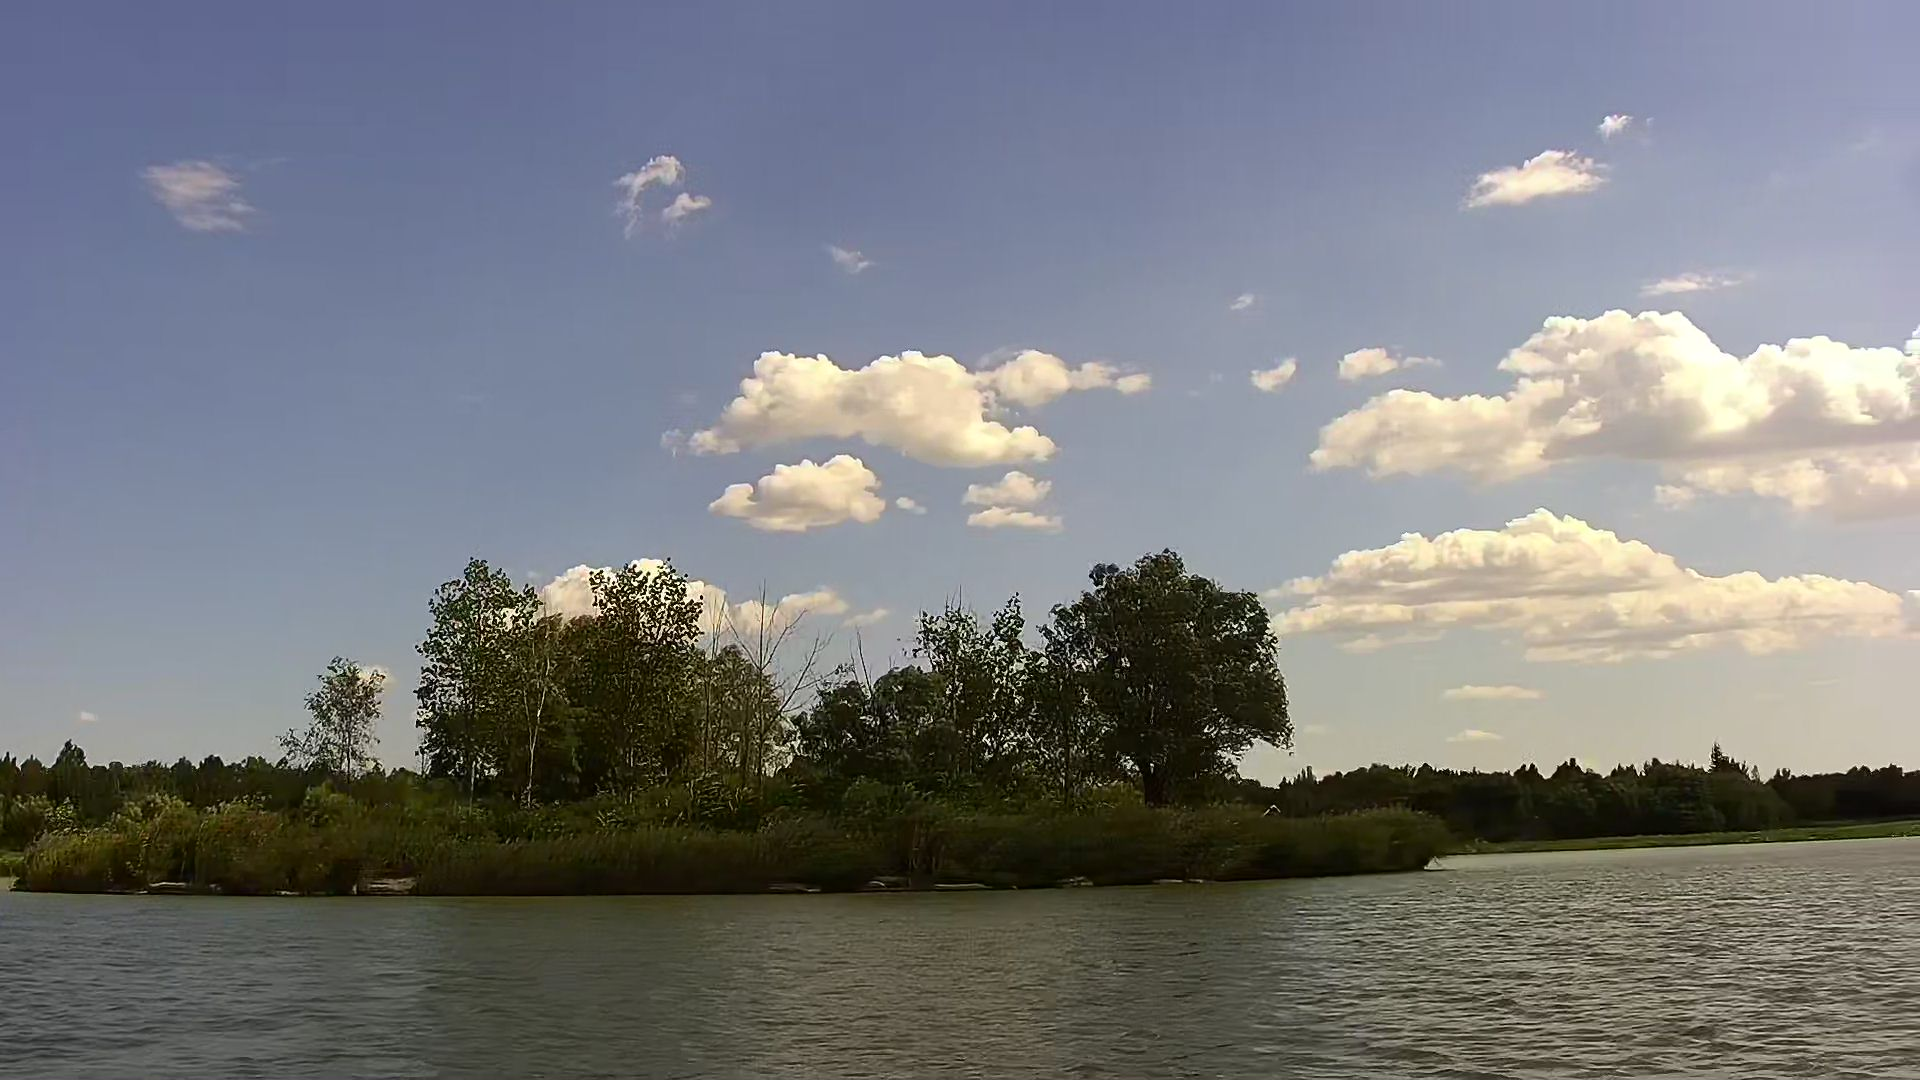rock: (355, 876, 411, 893)
